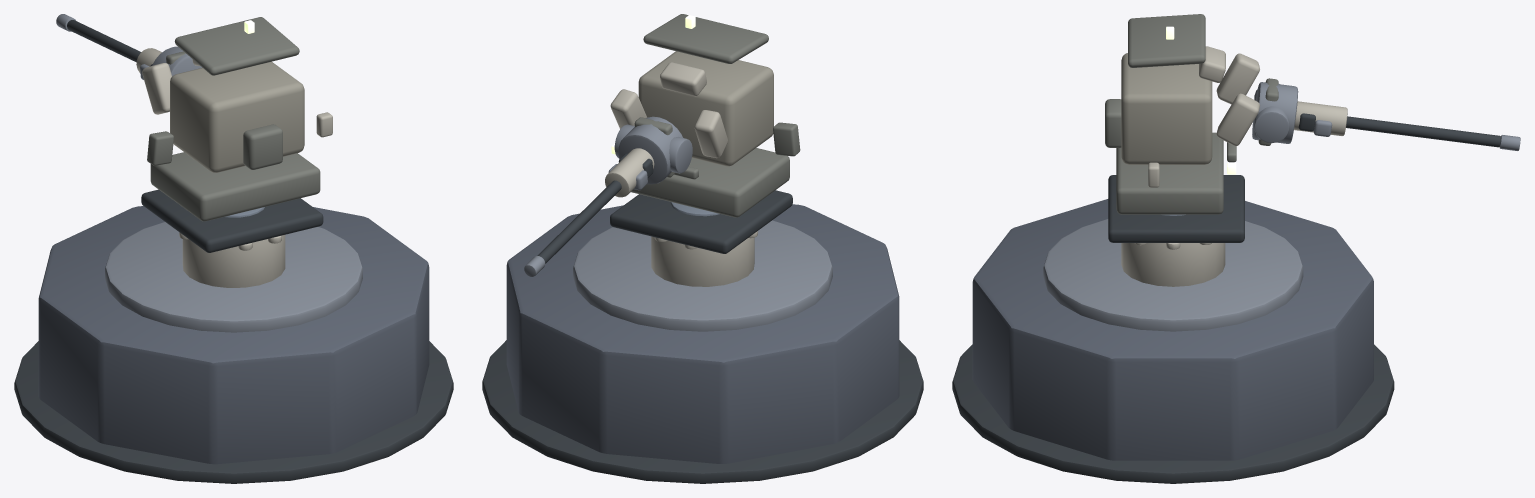
File: mg7_lvl1.glb
3 views of the same model, side by side, from view 1: azimuth 30°, elevation 25°; view 2: azimuth 150°, elevation 25°; view 3: azimuth 270°, elevation 25° (orthographic).
Parts seen in each view (by area): view 1: pedestal_skirt, pedestal_ring, pedestal_lower_ring, hull_main, hull_lower, turret_deck, roof, pedestal_collar, rear_box, front_cheek_left, barrel_01, side_panel_left (+1 smaller); view 2: pedestal_skirt, pedestal_ring, pedestal_lower_ring, hull_main, hull_lower, turret_deck, pedestal_collar, roof, mantlet, barrel_01, front_cheek_left, roof_slope (+4 smaller); view 3: pedestal_skirt, pedestal_ring, pedestal_lower_ring, hull_main, hull_lower, turret_deck, pedestal_collar, roof, barrel_01, front_cheek_right, front_cheek_left, mantlet (+4 smaller).
Part boxes in pixels (<box>): pedestal_skirt: <box>38,206,429,464</box>; pedestal_ring: <box>105,222,362,332</box>; pedestal_lower_ring: <box>14,341,453,483</box>; hull_main: <box>170,61,304,172</box>; hull_lower: <box>150,152,320,221</box>; turret_deck: <box>141,189,323,252</box>; roof: <box>174,17,299,75</box>; pedestal_collar: <box>182,235,285,287</box>; rear_box: <box>243,124,282,169</box>; front_cheek_left: <box>142,63,171,114</box>; barrel_01: <box>67,20,140,62</box>; side_panel_left: <box>147,131,173,165</box>; pedestal_skirt: <box>506,204,899,463</box>; pedestal_ring: <box>573,220,832,331</box>; pedestal_lower_ring: <box>482,340,923,483</box>; hull_main: <box>638,51,773,166</box>; hull_lower: <box>631,148,789,217</box>; turret_deck: <box>610,190,792,253</box>; pedestal_collar: <box>651,236,754,286</box>; roof: <box>643,14,768,63</box>; mantlet: <box>618,116,682,184</box>; barrel_01: <box>537,180,621,263</box>; front_cheek_left: <box>694,110,727,158</box>; roof_slope: <box>660,62,706,96</box>; pedestal_skirt: <box>972,199,1373,460</box>; pedestal_ring: <box>1043,219,1303,331</box>; pedestal_lower_ring: <box>952,344,1394,483</box>; hull_main: <box>1121,53,1212,164</box>; hull_lower: <box>1116,132,1223,214</box>; turret_deck: <box>1108,175,1244,242</box>; pedestal_collar: <box>1121,243,1225,286</box>; roof: <box>1128,14,1205,67</box>; barrel_01: <box>1346,116,1500,147</box>; front_cheek_right: <box>1216,93,1259,146</box>; front_cheek_left: <box>1216,53,1259,104</box>; mantlet: <box>1252,82,1298,143</box>.
Size of the model in its own units: 1.36 by 1.27 by 1.75.
